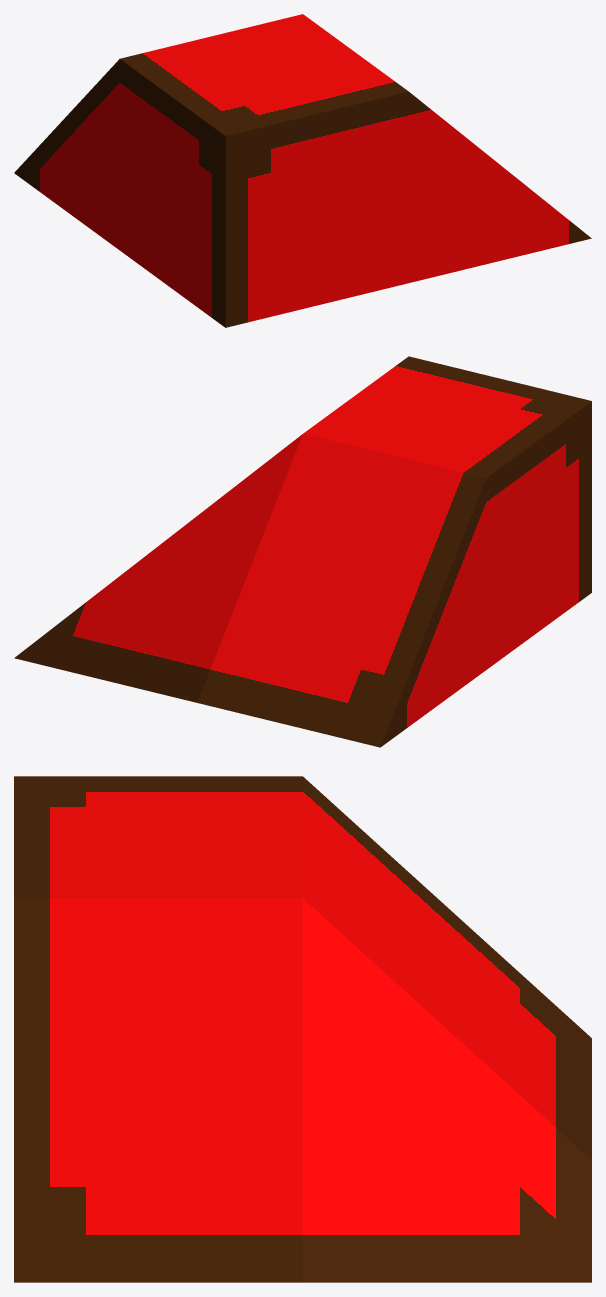
The model's file is 3_red.obj.
The picture shows the model from 3 angles, top to bottom: view 1: azimuth 30°, elevation 25°; view 2: azimuth 150°, elevation 25°; view 3: azimuth 270°, elevation 25°; orthographic projection. The views are drawn at different scales.
Visible parts, largest first — view 1: 3_red; view 2: 3_red; view 3: 3_red.
Part boxes in pixels (x1,y1,x2,y2): 3_red: [14, 14, 591, 327]; 3_red: [14, 356, 591, 747]; 3_red: [14, 776, 591, 1282].
Size of the model in its own units: 1 by 0.5 by 1.
1 material, 1 textured.
